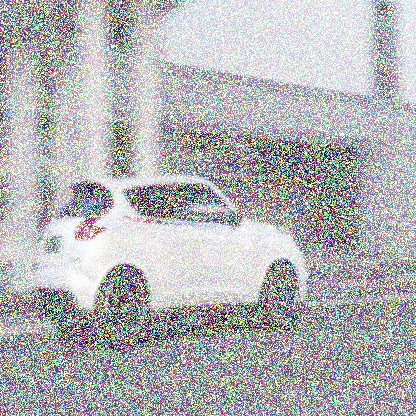Vehicle: (32, 173, 311, 352)
